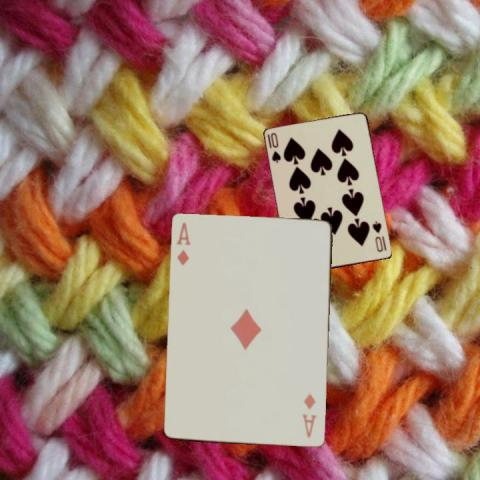10s: (369, 219, 385, 253), (268, 129, 283, 165)
Ad: (299, 391, 319, 440), (174, 219, 193, 268)
